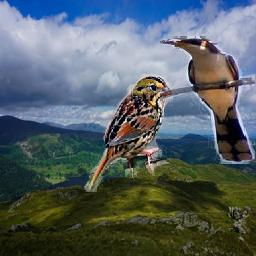Cuckoo: (161, 36, 256, 164)
Sparrow: (85, 74, 174, 192)
